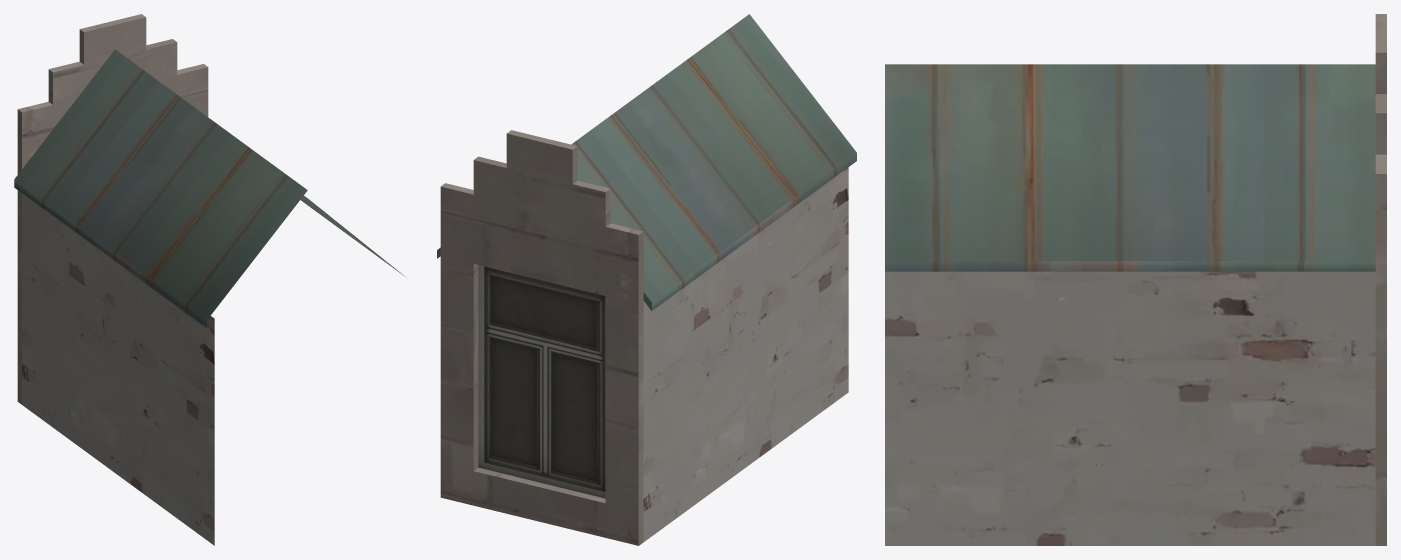
3 renders of one model, left to right at view 1: azimuth 30°, elevation 25°; view 2: azimuth 150°, elevation 25°; view 3: azimuth 270°, elevation 25°, orthographic. The views are drawn at different scales.
Parts seen in each view (by area): view 1: body0_model0_lod0_mesh1, body0_model0_lod0_mesh3, body0_model0_lod0_mesh0; view 2: body0_model0_lod0_mesh3, body0_model0_lod0_mesh0, body0_model0_lod0_mesh1, body0_model0_lod0_mesh2; view 3: body0_model0_lod0_mesh3, body0_model0_lod0_mesh1, body0_model0_lod0_mesh0.
Boxes of the visible parts, x1=… form: body0_model0_lod0_mesh1: x1=14, y1=49, x2=405, y2=328; body0_model0_lod0_mesh3: x1=22, y1=193, x2=214, y2=545; body0_model0_lod0_mesh0: x1=17, y1=14, x2=208, y2=404; body0_model0_lod0_mesh3: x1=643, y1=167, x2=848, y2=541; body0_model0_lod0_mesh0: x1=440, y1=130, x2=643, y2=545; body0_model0_lod0_mesh1: x1=437, y1=14, x2=856, y2=310; body0_model0_lod0_mesh2: x1=478, y1=265, x2=605, y2=498; body0_model0_lod0_mesh3: x1=885, y1=271, x2=1375, y2=545; body0_model0_lod0_mesh1: x1=885, y1=64, x2=1375, y2=271; body0_model0_lod0_mesh0: x1=1375, y1=14, x2=1386, y2=545.
Size of the model in its own units: 104 by 176 by 176.
4 materials, 4 textured.
